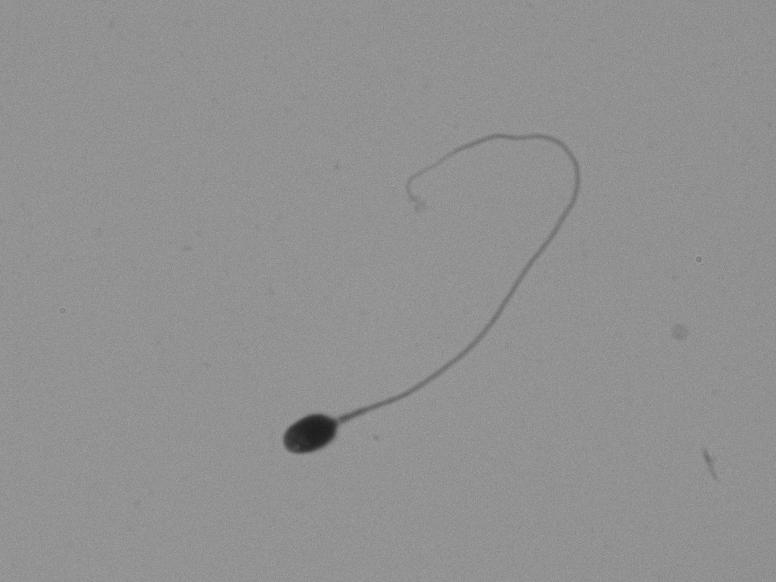Normal: (252, 111, 606, 481)
